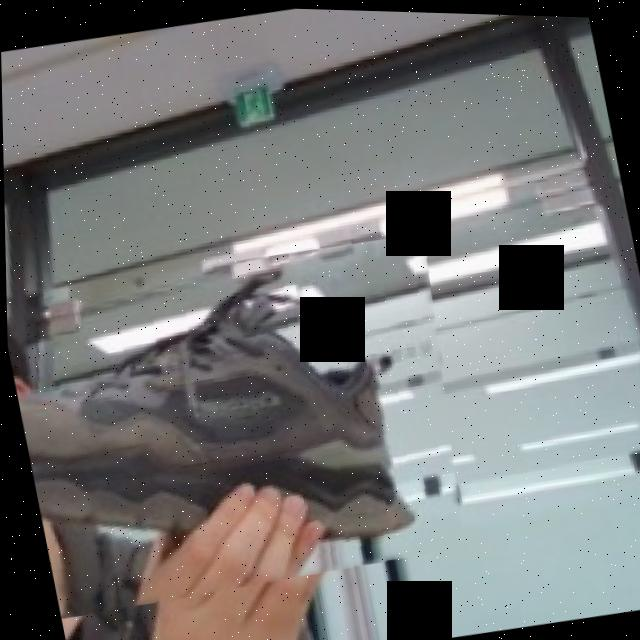shoe: (4, 220, 487, 629)
